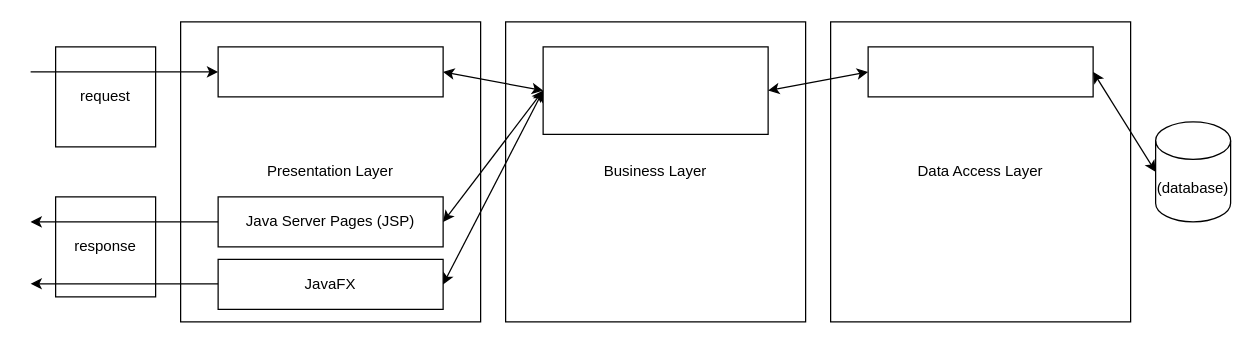
This 1253x344 diagram has some shape labels left out. The centre of each missing label's shape, as x and y in pixels:
"(persist order)" goes at (980,71).
"(verify required fields) (verify customer status) (verify product availability)" goes at (655,90).
"Java Servlets" goes at (330,71).
